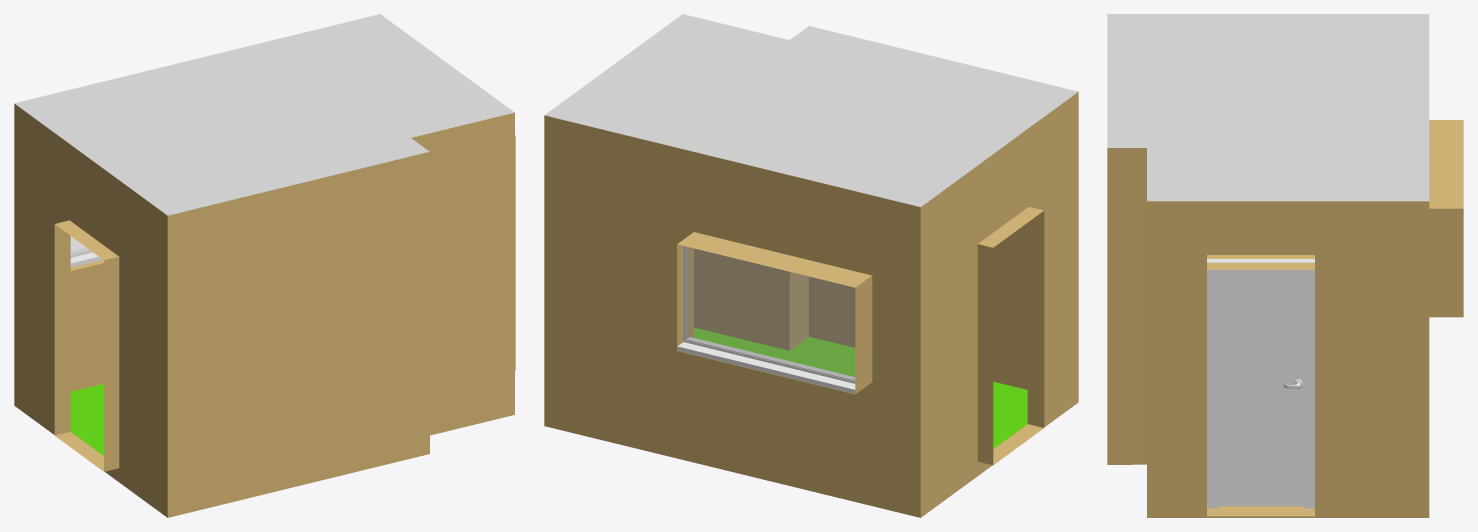
Rendered from Utility.glb.
The picture shows the model from 3 angles, left to right: view 1: azimuth 30°, elevation 25°; view 2: azimuth 150°, elevation 25°; view 3: azimuth 270°, elevation 25°; orthographic projection. The views are drawn at different scales.
Visible parts, largest first — view 1: Room_Utility; view 2: Room_Utility, Utility_Window_North; view 3: Room_Utility, Utility_Back_Door, Utility_Back_Door_Frame.
Part boxes in pixels (x1,y1,x2,y2): Room_Utility: (14,14,515,517); Room_Utility: (544,14,1078,517); Utility_Window_North: (677,246,855,393); Room_Utility: (1107,14,1463,517); Utility_Back_Door: (1217,274,1304,506); Utility_Back_Door_Frame: (1207,259,1314,508).
Bounding box in the file's own units: 4.27 × 3 × 3.06.
